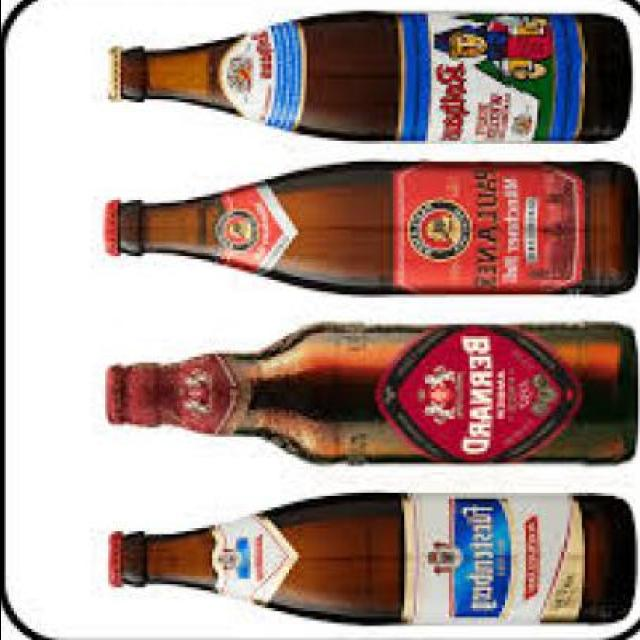kaca: (106, 318, 632, 462), (116, 158, 634, 294), (120, 491, 632, 624), (120, 8, 629, 141)
